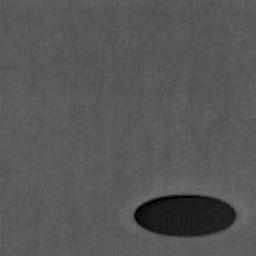Punching: (134, 195, 237, 238)
